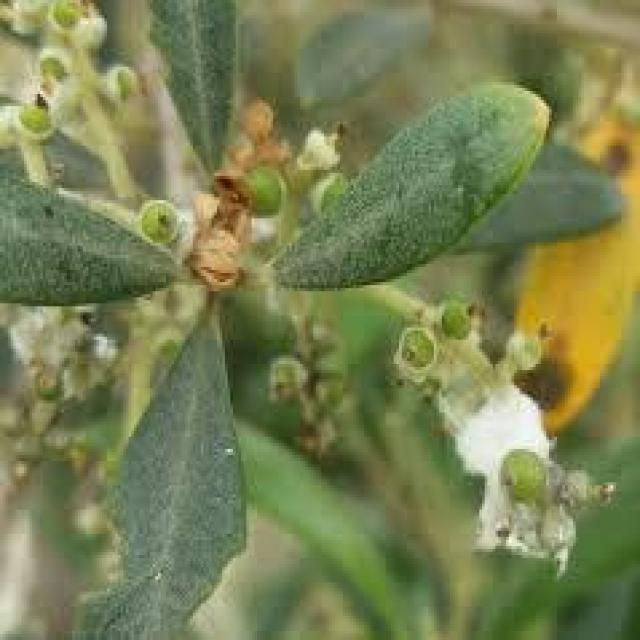Psyllid: (394, 294, 613, 573)
